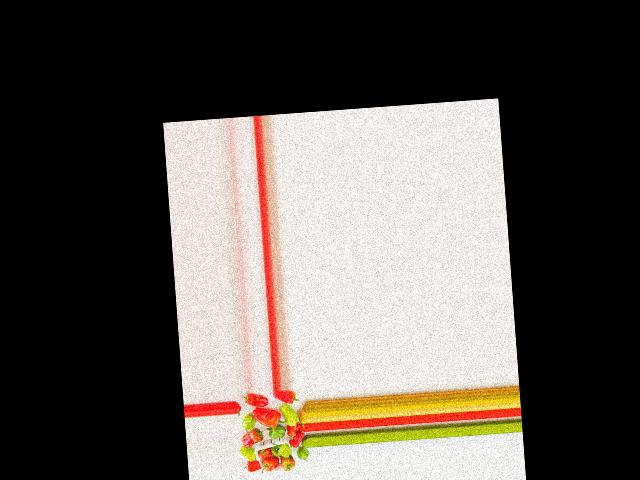bell_pepper: (276, 388, 300, 406)
